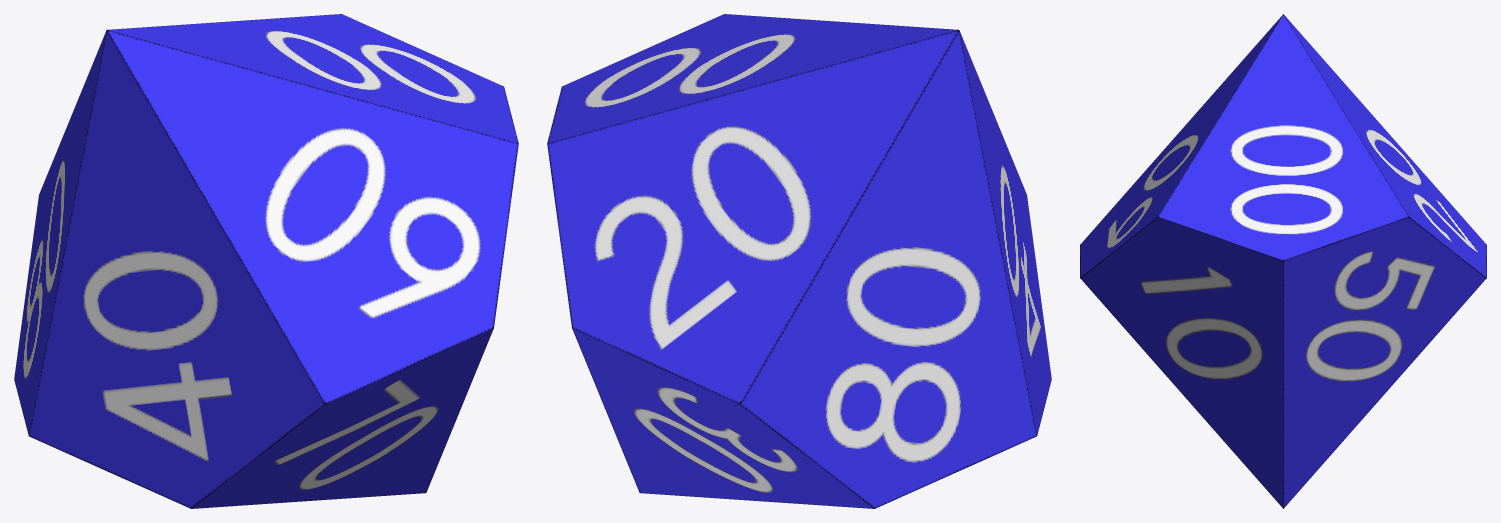
File: d10 (Percent) (Blue).gltf
3 renders of one model, left to right at view 1: azimuth 30°, elevation 25°; view 2: azimuth 150°, elevation 25°; view 3: azimuth 270°, elevation 25°, orthographic. The views are drawn at different scales.
Visible parts, largest first — view 1: d10_Percent; view 2: d10_Percent; view 3: d10_Percent.
Boxes of the visible parts, x1,y1,x2,y2 form: d10_Percent: (14, 14, 518, 508); d10_Percent: (547, 14, 1051, 508); d10_Percent: (1080, 14, 1486, 508).
Size of the model in its own units: 1.79 by 1.95 by 1.87.
1 material, 1 textured.
